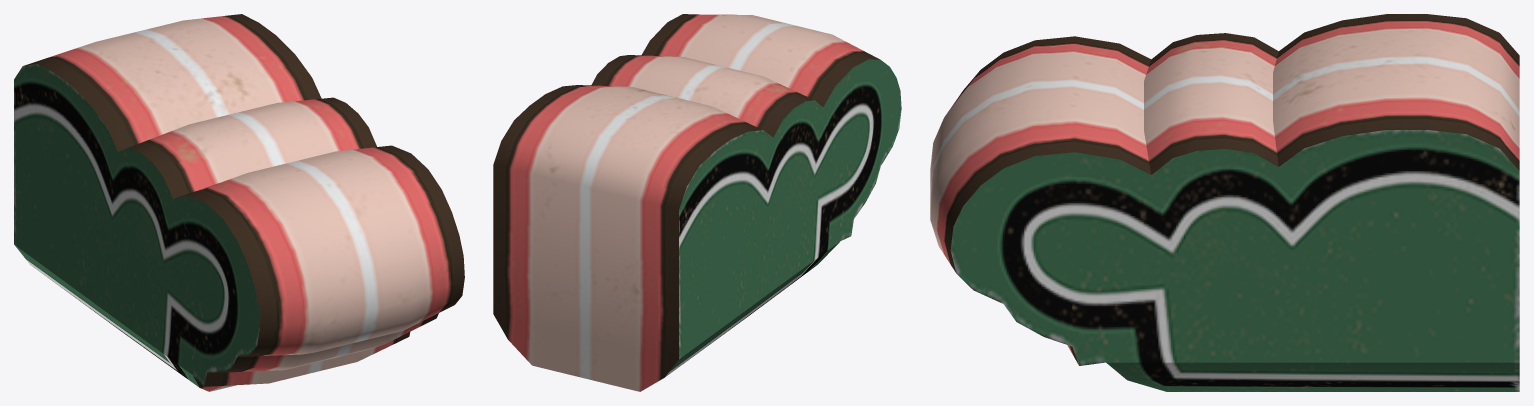
Rendered from SM_CGJ_Gongpo07d.fbx.
3 views of the same model, side by side, from view 1: azimuth 30°, elevation 25°; view 2: azimuth 150°, elevation 25°; view 3: azimuth 270°, elevation 25° (orthographic). The views are drawn at different scales.
Visible parts, largest first — view 1: SM_CGJ_Gongpo07d; view 2: SM_CGJ_Gongpo07d; view 3: SM_CGJ_Gongpo07d.
Boxes of the visible parts, x1,y1,x2,y2 form: SM_CGJ_Gongpo07d: [14, 14, 464, 391]; SM_CGJ_Gongpo07d: [493, 14, 901, 391]; SM_CGJ_Gongpo07d: [930, 14, 1519, 391].
Size of the model in its own units: 18 by 38.71 by 21.65.
1 material, 1 textured.
